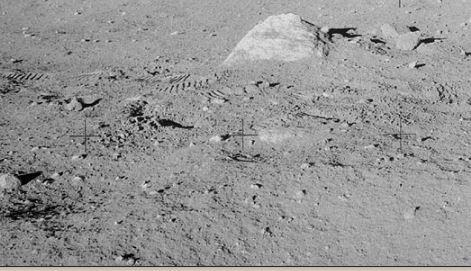rock: (223, 15, 327, 65)
